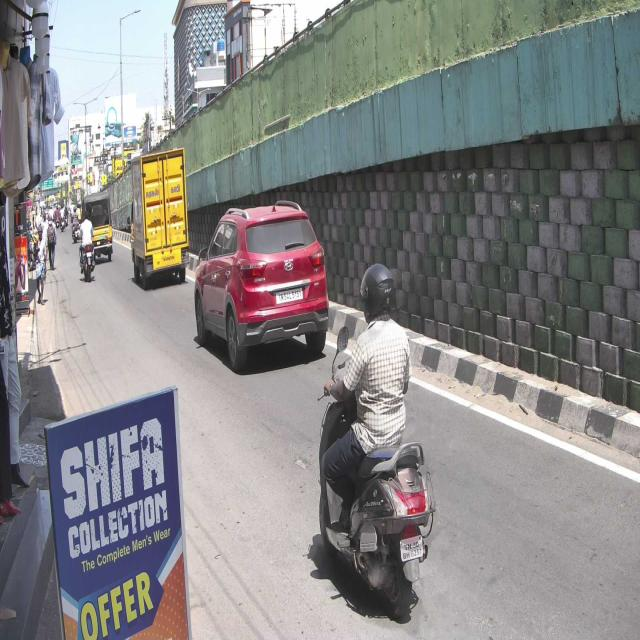single_rider: (317, 258, 437, 622)
